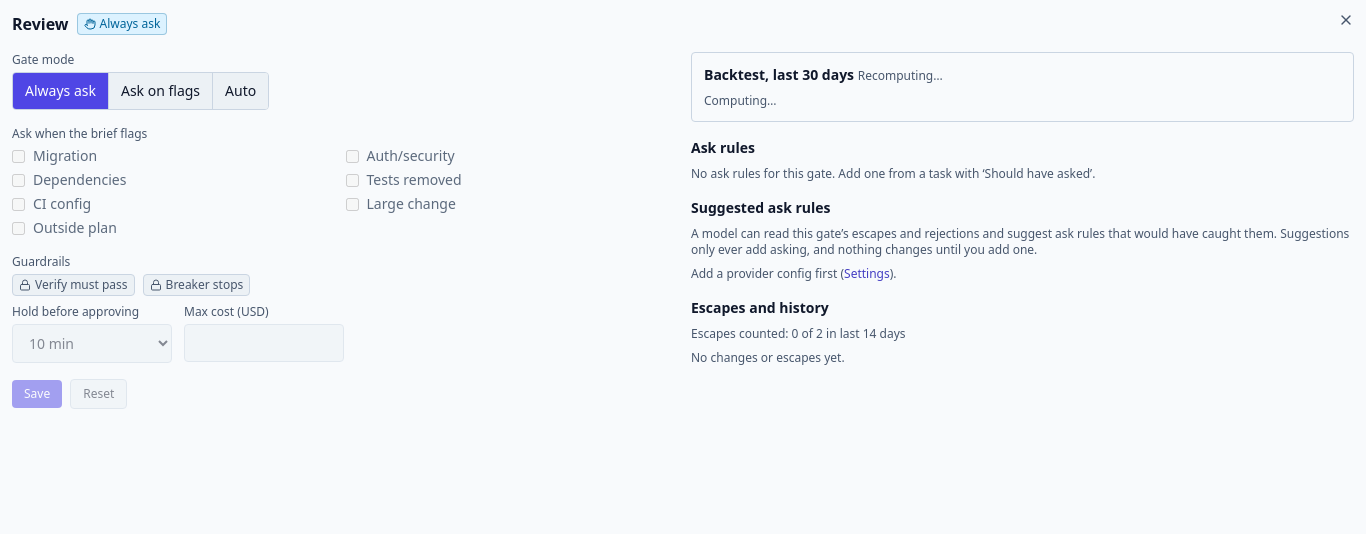
it: GateDialPanel › warns about PRs on Auto and about repos without a verify command
Expected: the text "PRs will open" is not shown
Click the radio button labelled "Auto".
click(240, 91)  # box [212,73,268,109]
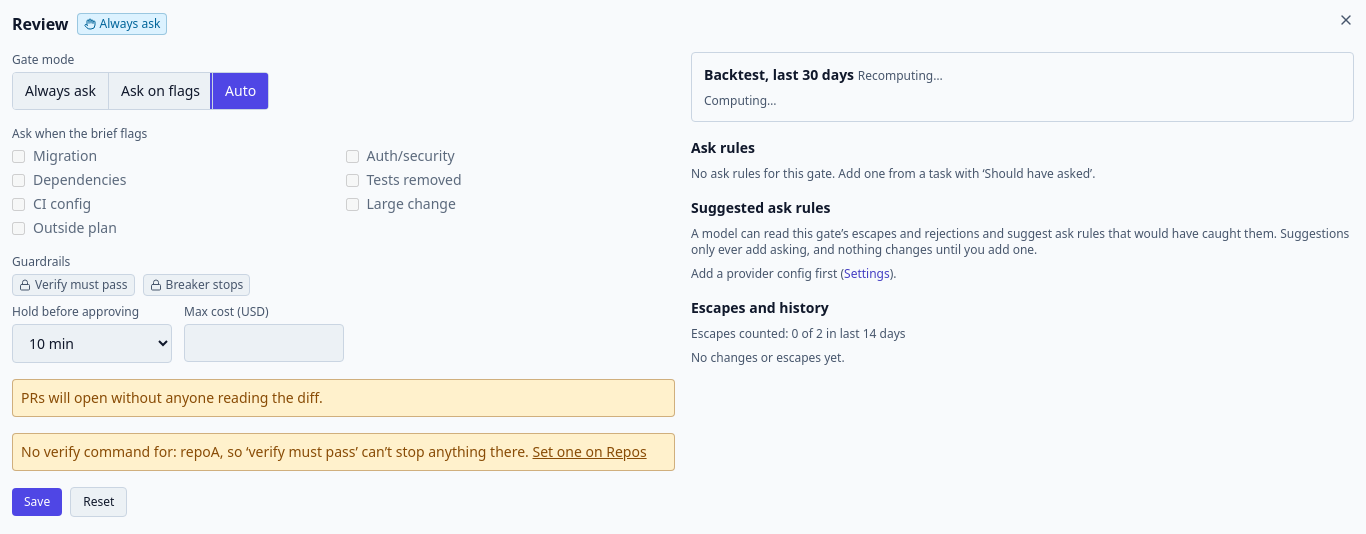
Now the text "PRs will open without anyone reading the diff." is shown, box [12,379,675,417]
Now the text "No verify command for: repoA" is shown, box [12,433,675,471]
